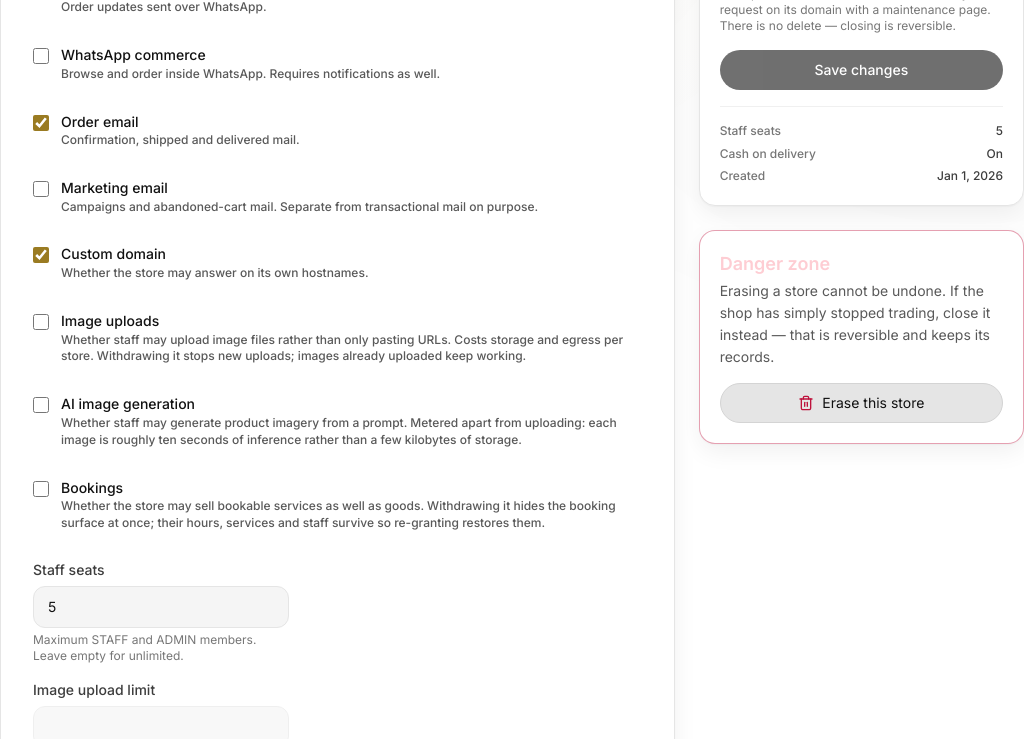
Test: Platform store detail — erasing a store › spells out what is destroyed rather than summarising it
(page scrolled)
Expected: the heading "Danger zone" is shown, [720,253,830,274]
Click the button "Erase this store".
click(861, 403)  # box [720,383,1003,423]
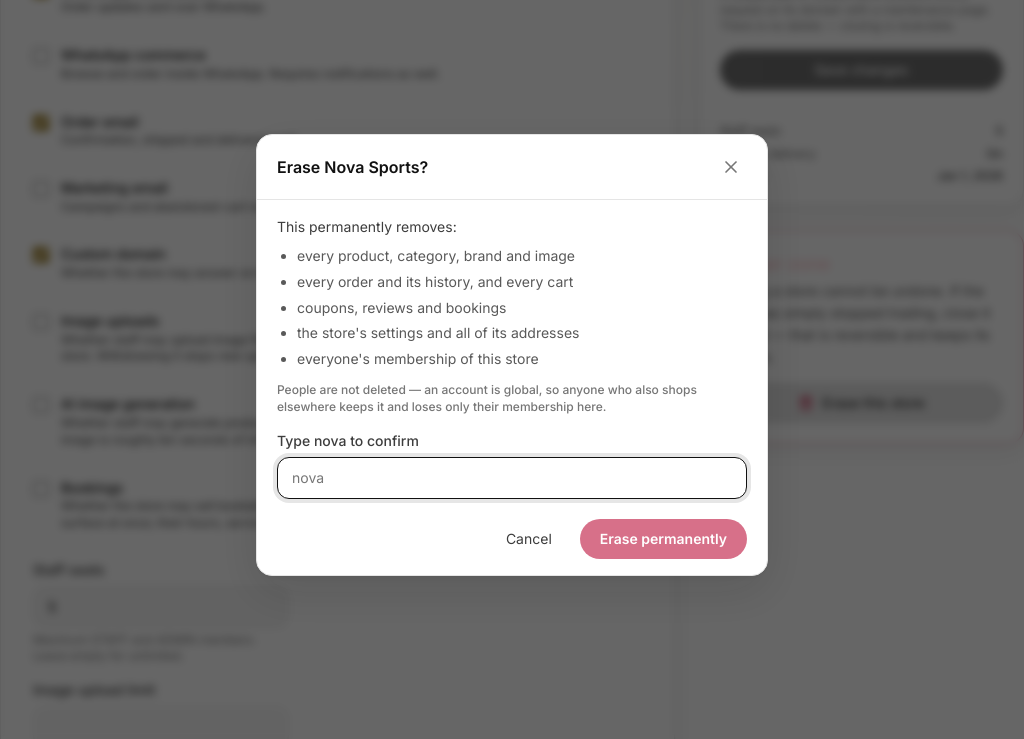
Result: the list item "every order and its history, and every cart" is shown at [297,273,573,290]
Result: the list item "everyone's membership of this store" is shown at [297,350,539,367]
Result: the text "People are not deleted" is shown at [277,382,697,414]
